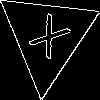X: (22, 12, 72, 68)
